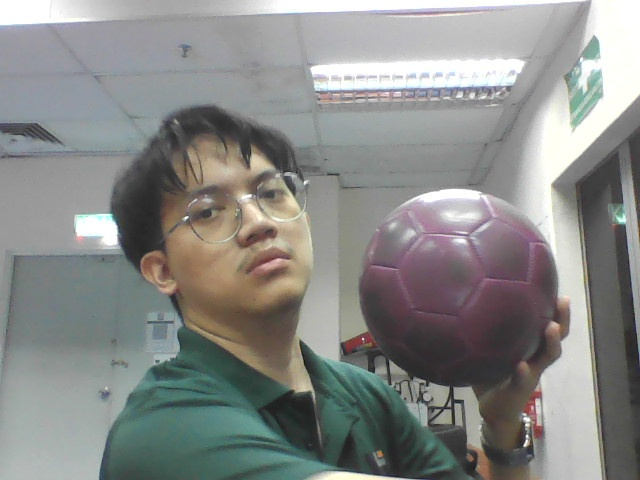Purple: (359, 188, 559, 386)
